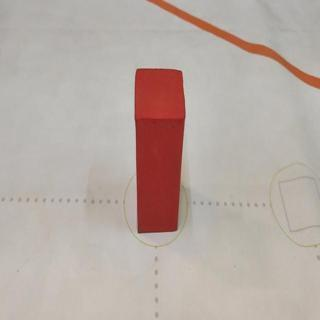redbox: (134, 67, 185, 233)
